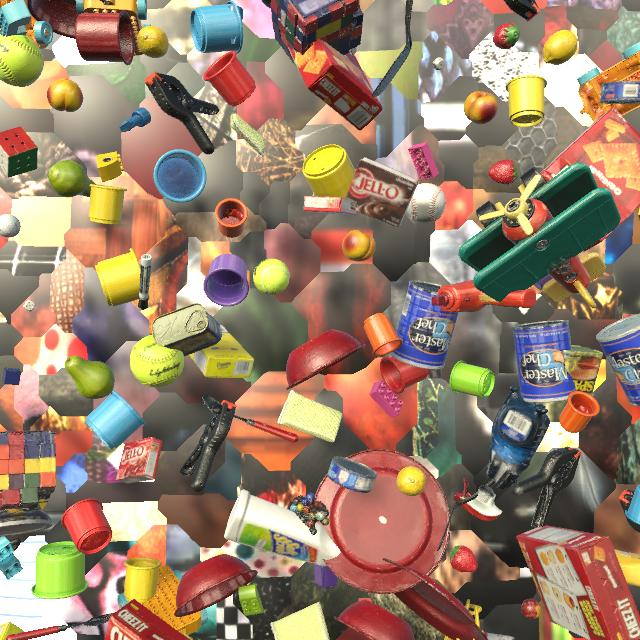ycb_002_master_chef_can: (391, 280, 459, 370), (512, 320, 576, 403), (596, 314, 640, 406)
ycb_003_cracker_box: (540, 108, 640, 252), (516, 525, 640, 640), (289, 39, 383, 131), (104, 599, 189, 640)
ycb_004_sugar_box: (189, 325, 254, 378), (0, 622, 25, 640)
ycb_005_tomato_soup_can: (484, 632, 514, 640)
ycb_006_mustard_bottle: (614, 549, 640, 587)
ycb_007_tuna_fish_can: (328, 456, 377, 493), (600, 81, 640, 104)
ycb_008_pudding_box: (346, 157, 419, 228)
ycb_009_gelatin_box: (116, 437, 163, 484), (303, 196, 357, 215)
ycb_010_potted_meat_can: (151, 303, 222, 356), (563, 345, 603, 396)
ycb_012_strawberry: (488, 159, 518, 185), (450, 545, 478, 572), (493, 23, 520, 50)
ycb_014_lemon: (543, 30, 578, 65), (137, 26, 169, 58), (397, 466, 426, 496)
ycb_015_peach: (47, 79, 83, 112), (464, 91, 498, 125), (342, 230, 376, 261)
ycb_016_pear: (64, 355, 115, 399), (48, 160, 96, 197)
